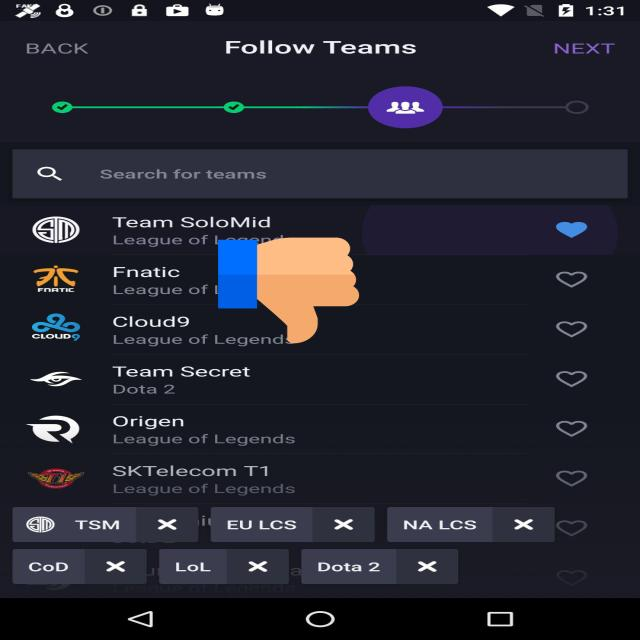obstruction: (218, 235, 359, 346)
